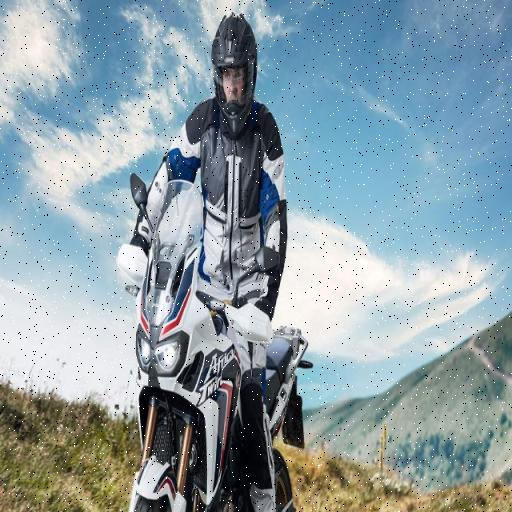Helmet: (212, 12, 266, 127)
Motor: (126, 186, 300, 512)
